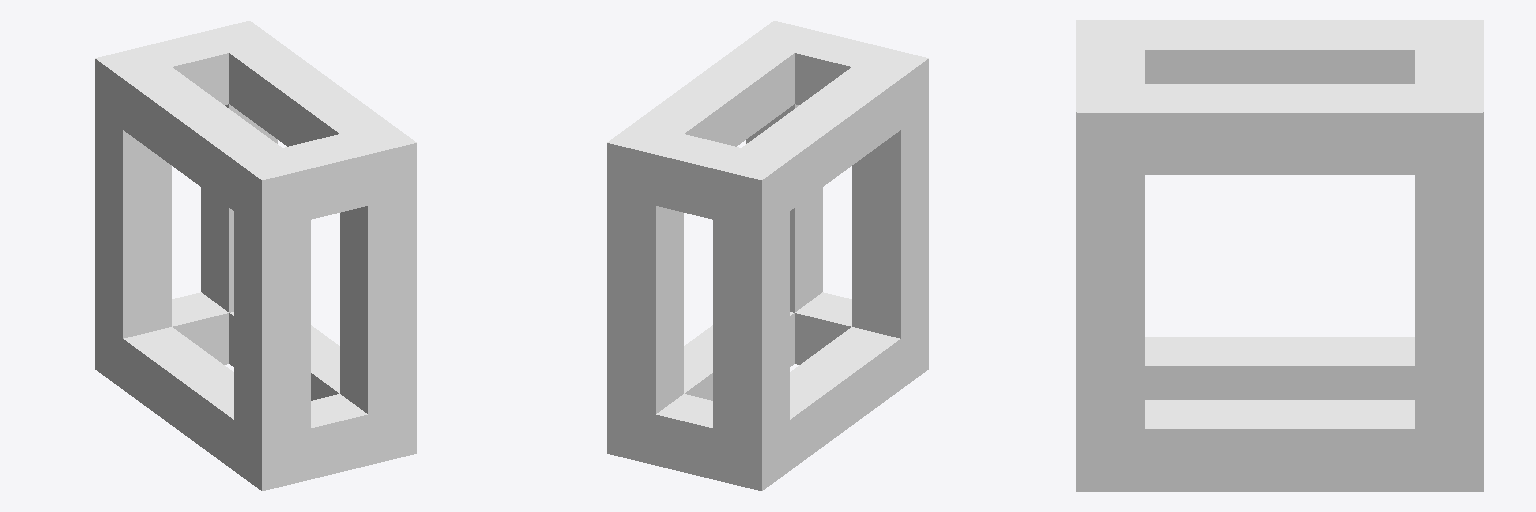
URDF robot description (geom_cuboid_wireframe):
<?xml version='1.0' encoding='UTF-8'?>
<robot name="geom_cuboid_wireframe">
    <link name="base">
        <inertial>
            <origin xyz="0.0 0.0 0.0" rpy="0.0 -0.0 0.0"/>
            <mass value="1.0"/>
            <inertia ixx="1.0" ixy="0.0" ixz="0.0" iyy="1.0" iyz="0.0" izz="1.0"/>
        </inertial>
        <visual>
            <geometry>
                <box size="1.17 0.37 0.37"/>
            </geometry>
            <material name="color[1.0, 1.0, 1.0, 1.0]"/>
            <origin xyz="0.0 0.9104796648025513 0.9400861263275146" rpy="0.0 0.0 0.0"/>
        </visual>
        <visual>
            <geometry>
                <box size="1.17 0.37 0.37"/>
            </geometry>
            <material name="color[1.0, 1.0, 1.0, 1.0]"/>
            <origin xyz="0.0 0.9104796648025513 -0.9400861263275146" rpy="0.0 0.0 0.0"/>
        </visual>
        <visual>
            <geometry>
                <box size="1.17 0.37 0.37"/>
            </geometry>
            <material name="color[1.0, 1.0, 1.0, 1.0]"/>
            <origin xyz="0.0 -0.9104796648025513 0.9400861263275146" rpy="0.0 0.0 0.0"/>
        </visual>
        <visual>
            <geometry>
                <box size="1.17 0.37 0.37"/>
            </geometry>
            <material name="color[1.0, 1.0, 1.0, 1.0]"/>
            <origin xyz="0.0 -0.9104796648025513 -0.9400861263275146" rpy="0.0 0.0 0.0"/>
        </visual>
        <visual>
            <geometry>
                <box size="0.37 2.19 0.37"/>
            </geometry>
            <material name="color[1.0, 1.0, 1.0, 1.0]"/>
            <origin xyz="0.4019410312175751 0.0 0.9400861263275146" rpy="0.0 0.0 0.0"/>
        </visual>
        <visual>
            <geometry>
                <box size="0.37 2.19 0.37"/>
            </geometry>
            <material name="color[1.0, 1.0, 1.0, 1.0]"/>
            <origin xyz="0.4019410312175751 0.0 -0.9400861263275146" rpy="0.0 0.0 0.0"/>
        </visual>
        <visual>
            <geometry>
                <box size="0.37 2.19 0.37"/>
            </geometry>
            <material name="color[1.0, 1.0, 1.0, 1.0]"/>
            <origin xyz="-0.4019410312175751 0.0 0.9400861263275146" rpy="0.0 0.0 0.0"/>
        </visual>
        <visual>
            <geometry>
                <box size="0.37 2.19 0.37"/>
            </geometry>
            <material name="color[1.0, 1.0, 1.0, 1.0]"/>
            <origin xyz="-0.4019410312175751 0.0 -0.9400861263275146" rpy="0.0 0.0 0.0"/>
        </visual>
        <visual>
            <geometry>
                <box size="0.37 0.37 2.25"/>
            </geometry>
            <material name="color[1.0, 1.0, 1.0, 1.0]"/>
            <origin xyz="0.4019410312175751 0.9104796648025513 0.0" rpy="0.0 0.0 0.0"/>
        </visual>
        <visual>
            <geometry>
                <box size="0.37 0.37 2.25"/>
            </geometry>
            <material name="color[1.0, 1.0, 1.0, 1.0]"/>
            <origin xyz="0.4019410312175751 -0.9104796648025513 0.0" rpy="0.0 0.0 0.0"/>
        </visual>
        <visual>
            <geometry>
                <box size="0.37 0.37 2.25"/>
            </geometry>
            <material name="color[1.0, 1.0, 1.0, 1.0]"/>
            <origin xyz="-0.4019410312175751 0.9104796648025513 0.0" rpy="0.0 0.0 0.0"/>
        </visual>
        <visual>
            <geometry>
                <box size="0.37 0.37 2.25"/>
            </geometry>
            <material name="color[1.0, 1.0, 1.0, 1.0]"/>
            <origin xyz="-0.4019410312175751 -0.9104796648025513 0.0" rpy="0.0 0.0 0.0"/>
        </visual>
        <collision>
            <geometry>
                <box size="1.17 0.37 0.37"/>
            </geometry>
            <origin xyz="0.0 0.9104796648025513 0.9400861263275146" rpy="0.0 0.0 0.0"/>
        </collision>
        <collision>
            <geometry>
                <box size="1.17 0.37 0.37"/>
            </geometry>
            <origin xyz="0.0 0.9104796648025513 -0.9400861263275146" rpy="0.0 0.0 0.0"/>
        </collision>
        <collision>
            <geometry>
                <box size="1.17 0.37 0.37"/>
            </geometry>
            <origin xyz="0.0 -0.9104796648025513 0.9400861263275146" rpy="0.0 0.0 0.0"/>
        </collision>
        <collision>
            <geometry>
                <box size="1.17 0.37 0.37"/>
            </geometry>
            <origin xyz="0.0 -0.9104796648025513 -0.9400861263275146" rpy="0.0 0.0 0.0"/>
        </collision>
        <collision>
            <geometry>
                <box size="0.37 2.19 0.37"/>
            </geometry>
            <origin xyz="0.4019410312175751 0.0 0.9400861263275146" rpy="0.0 0.0 0.0"/>
        </collision>
        <collision>
            <geometry>
                <box size="0.37 2.19 0.37"/>
            </geometry>
            <origin xyz="0.4019410312175751 0.0 -0.9400861263275146" rpy="0.0 0.0 0.0"/>
        </collision>
        <collision>
            <geometry>
                <box size="0.37 2.19 0.37"/>
            </geometry>
            <origin xyz="-0.4019410312175751 0.0 0.9400861263275146" rpy="0.0 0.0 0.0"/>
        </collision>
        <collision>
            <geometry>
                <box size="0.37 2.19 0.37"/>
            </geometry>
            <origin xyz="-0.4019410312175751 0.0 -0.9400861263275146" rpy="0.0 0.0 0.0"/>
        </collision>
        <collision>
            <geometry>
                <box size="0.37 0.37 2.25"/>
            </geometry>
            <origin xyz="0.4019410312175751 0.9104796648025513 0.0" rpy="0.0 0.0 0.0"/>
        </collision>
        <collision>
            <geometry>
                <box size="0.37 0.37 2.25"/>
            </geometry>
            <origin xyz="0.4019410312175751 -0.9104796648025513 0.0" rpy="0.0 0.0 0.0"/>
        </collision>
        <collision>
            <geometry>
                <box size="0.37 0.37 2.25"/>
            </geometry>
            <origin xyz="-0.4019410312175751 0.9104796648025513 0.0" rpy="0.0 0.0 0.0"/>
        </collision>
        <collision>
            <geometry>
                <box size="0.37 0.37 2.25"/>
            </geometry>
            <origin xyz="-0.4019410312175751 -0.9104796648025513 0.0" rpy="0.0 0.0 0.0"/>
        </collision>
    </link>
    <material name="color[1.0, 1.0, 1.0, 1.0]">
        <color rgba="1. 1. 1. 1."/>
    </material>
</robot>

--- Facts derived from the render (not from the file) ---
The picture shows the robot from 3 angles, left to right: view 1: azimuth 30°, elevation 25°; view 2: azimuth 150°, elevation 25°; view 3: azimuth 270°, elevation 25°; orthographic projection.
Robot: geom_cuboid_wireframe — 1 links, 0 joints (none); root link base; default pose: every joint at zero.
Visible links, largest first — view 1: base; view 2: base; view 3: base.
Boxes of the visible links, box(x1,y1,x2,y2) form: base: box(95, 21, 416, 490); base: box(607, 21, 928, 490); base: box(1076, 20, 1483, 491).
Bounding box of the posed robot: 1.17 × 2.19 × 2.25 m (x, y, z).
Geometry: primitives only (box / cylinder / sphere), no mesh files.
